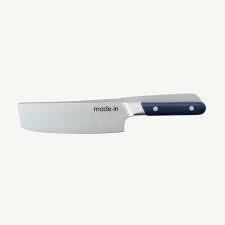Knife: (17, 92, 206, 134)
